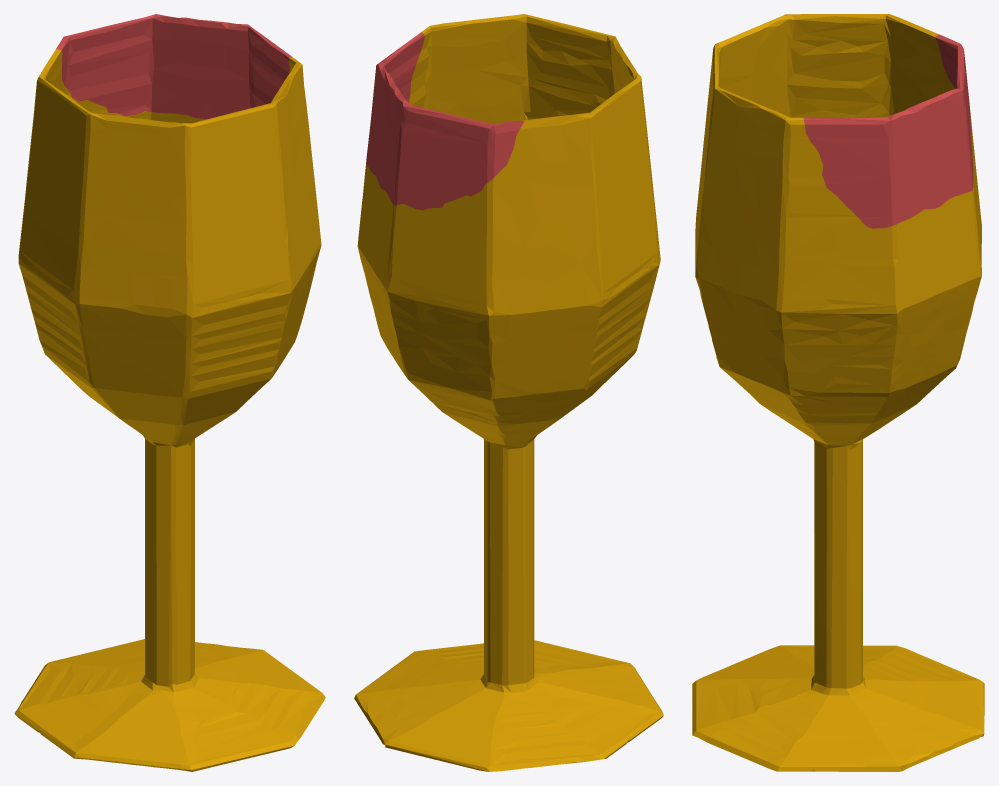
Rendered from fractured_75_2pcs.glb.
3 views of the same model, side by side, from view 1: azimuth 30°, elevation 25°; view 2: azimuth 150°, elevation 25°; view 3: azimuth 270°, elevation 25° (orthographic).
Parts seen in each view (by area): view 1: piece_0.obj, piece_1.obj; view 2: piece_0.obj, piece_1.obj; view 3: piece_0.obj, piece_1.obj.
Part boxes in pixels (<box>): piece_0.obj: <box>14,49,325,771</box>; piece_1.obj: <box>56,14,291,119</box>; piece_0.obj: <box>354,14,663,771</box>; piece_1.obj: <box>366,32,524,210</box>; piece_0.obj: <box>692,14,984,771</box>; piece_1.obj: <box>803,34,973,228</box>.
Bounding box in the file's own units: 0.4104 × 1 × 0.4102.
